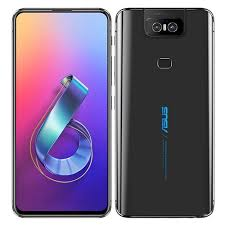asus: (111, 3, 216, 220), (9, 4, 112, 220)
